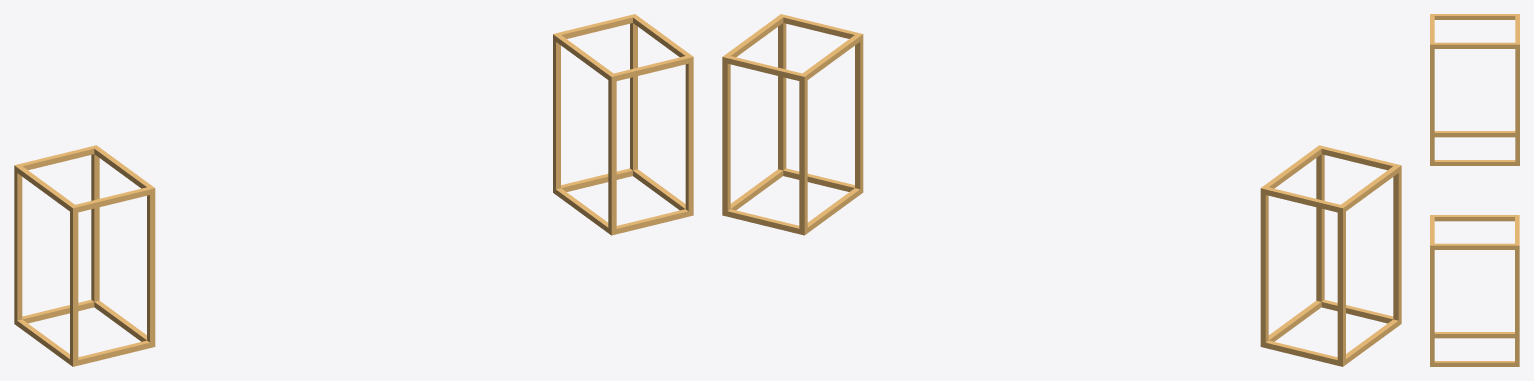
Rendered from gloves.glb.
The picture shows the model from 3 angles, left to right: view 1: azimuth 30°, elevation 25°; view 2: azimuth 150°, elevation 25°; view 3: azimuth 270°, elevation 25°; orthographic projection. The views are drawn at different scales.
Visible parts, largest first — view 1: box_0, box_1; view 2: box_0, box_1; view 3: box_1, box_0.
Part boxes in pixels (x1,y1,x2,y2): box_0: (14,145,155,366); box_1: (553,14,693,235); box_0: (1260,145,1401,366); box_1: (722,14,863,235); box_1: (1430,215,1519,366); box_0: (1430,14,1519,165).
Size of the model in its own units: 1.19 by 0.2898 by 0.1945.
